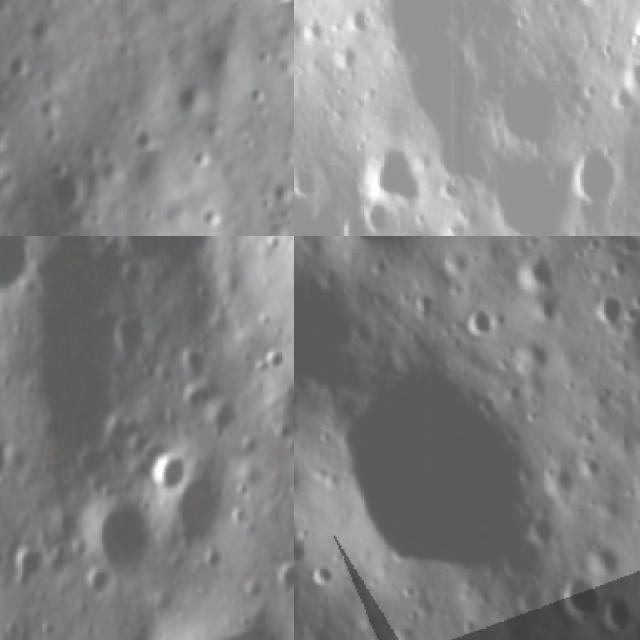crater: (333, 367, 550, 574), (476, 138, 587, 236), (492, 61, 576, 155), (168, 468, 236, 560), (356, 137, 433, 216), (85, 496, 152, 576), (569, 143, 625, 216), (115, 236, 221, 266), (4, 542, 47, 594), (514, 248, 560, 296), (0, 236, 37, 295), (74, 560, 116, 607), (564, 565, 600, 617), (149, 448, 191, 491), (590, 285, 627, 333), (200, 398, 240, 442), (48, 163, 84, 206), (264, 557, 294, 599), (617, 54, 640, 107), (465, 303, 499, 338), (606, 592, 635, 629), (346, 236, 415, 251), (0, 435, 14, 492), (531, 297, 563, 321), (307, 558, 334, 586)
